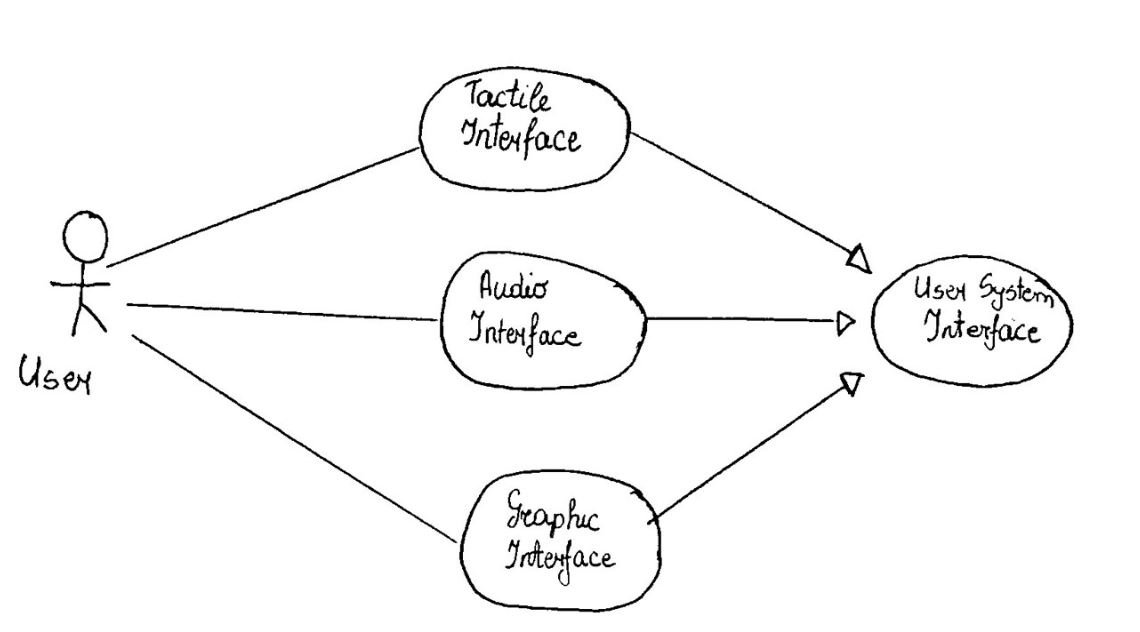actor: (46, 203, 115, 341)
association: (131, 330, 451, 540), (105, 145, 418, 268), (126, 295, 438, 324)
generalization: (635, 131, 876, 278), (657, 367, 867, 519), (650, 302, 858, 349)
text: (465, 267, 603, 360), (457, 75, 594, 167), (499, 488, 626, 584), (912, 273, 1058, 353), (11, 349, 105, 404)
use_case: (439, 250, 648, 392), (460, 469, 661, 615), (869, 253, 1075, 390), (416, 64, 631, 195)
